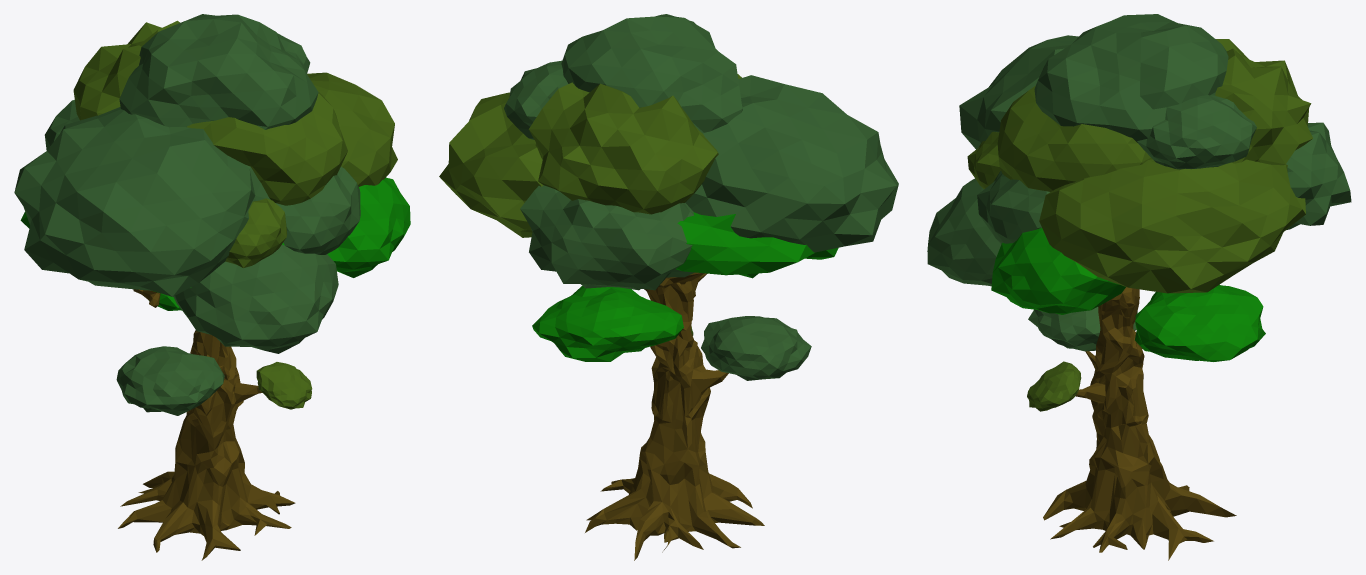
The model's file is jungle_worldTree.fbx.
The picture shows the model from 3 angles, left to right: view 1: azimuth 30°, elevation 25°; view 2: azimuth 150°, elevation 25°; view 3: azimuth 270°, elevation 25°; orthographic projection. The views are drawn at different scales.
Parts seen in each view (by area): view 1: WorldTrree(jungle); view 2: WorldTrree(jungle); view 3: WorldTrree(jungle).
Part boxes in pixels (x1=…): WorldTrree(jungle): x1=14, y1=14, x2=410, y2=560; WorldTrree(jungle): x1=439, y1=14, x2=898, y2=560; WorldTrree(jungle): x1=927, y1=14, x2=1351, y2=560.
Bounding box in the file's own units: 12583 × 15400 × 11561.
